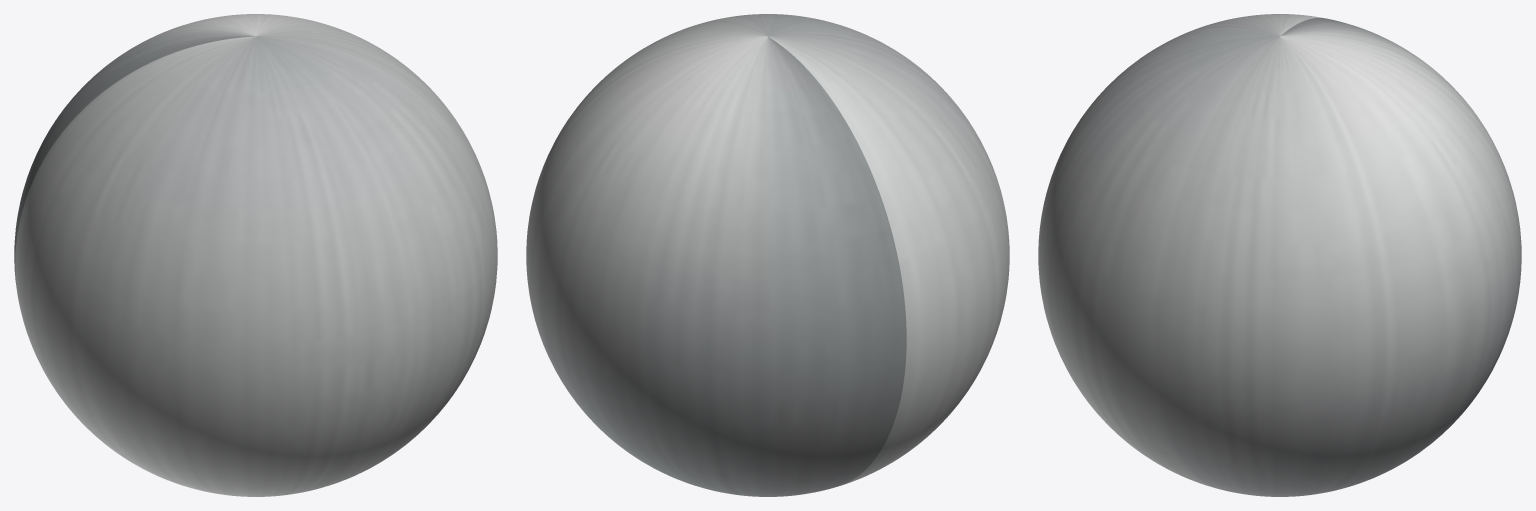
Rendered from canica.obj.
3 views of the same model, side by side, from view 1: azimuth 30°, elevation 25°; view 2: azimuth 150°, elevation 25°; view 3: azimuth 270°, elevation 25° (orthographic).
Visible parts, largest first — view 1: Sphere; view 2: Sphere; view 3: Sphere.
Part boxes in pixels (box(x1,y1,x2,y2)): Sphere: box(14, 14, 497, 496); Sphere: box(526, 14, 1009, 496); Sphere: box(1038, 14, 1521, 496).
Bounding box in the file's own units: 1.5 × 1.5 × 1.5.
